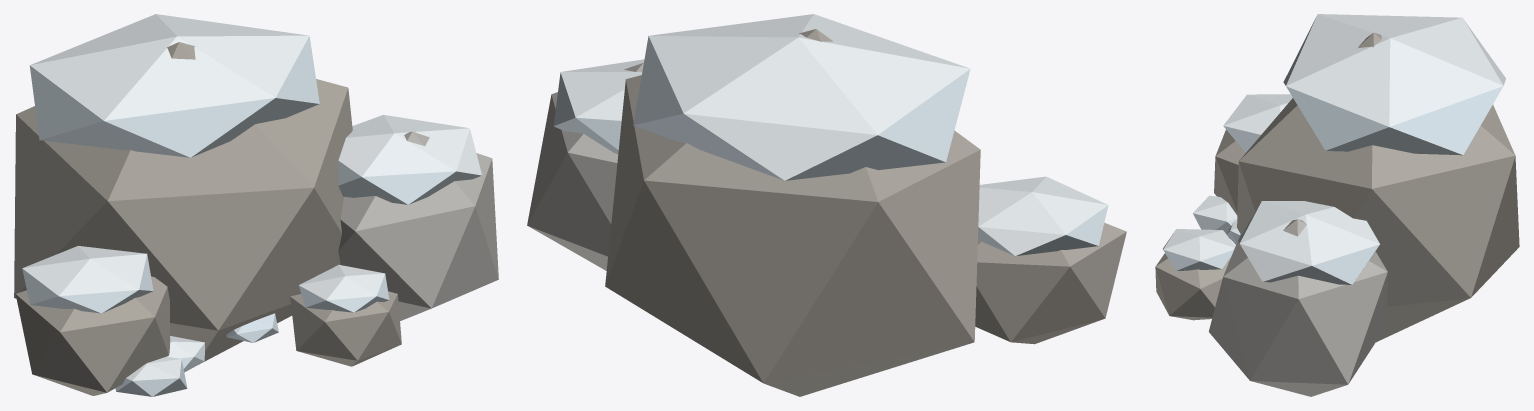
File: rock_cluster_snow_large.glb
The picture shows the model from 3 angles, left to right: view 1: azimuth 30°, elevation 25°; view 2: azimuth 150°, elevation 25°; view 3: azimuth 270°, elevation 25°; orthographic projection. The views are drawn at different scales.
Parts seen in each view (by area): view 1: rock_cluster_snow_large; view 2: rock_cluster_snow_large; view 3: rock_cluster_snow_large.
Part boxes in pixels (x1,y1,x2,y2): rock_cluster_snow_large: (14,14,498,396); rock_cluster_snow_large: (527,14,1126,396); rock_cluster_snow_large: (1155,14,1519,396).
Bounding box in the file's own units: 1.91 × 1.26 × 1.37.
